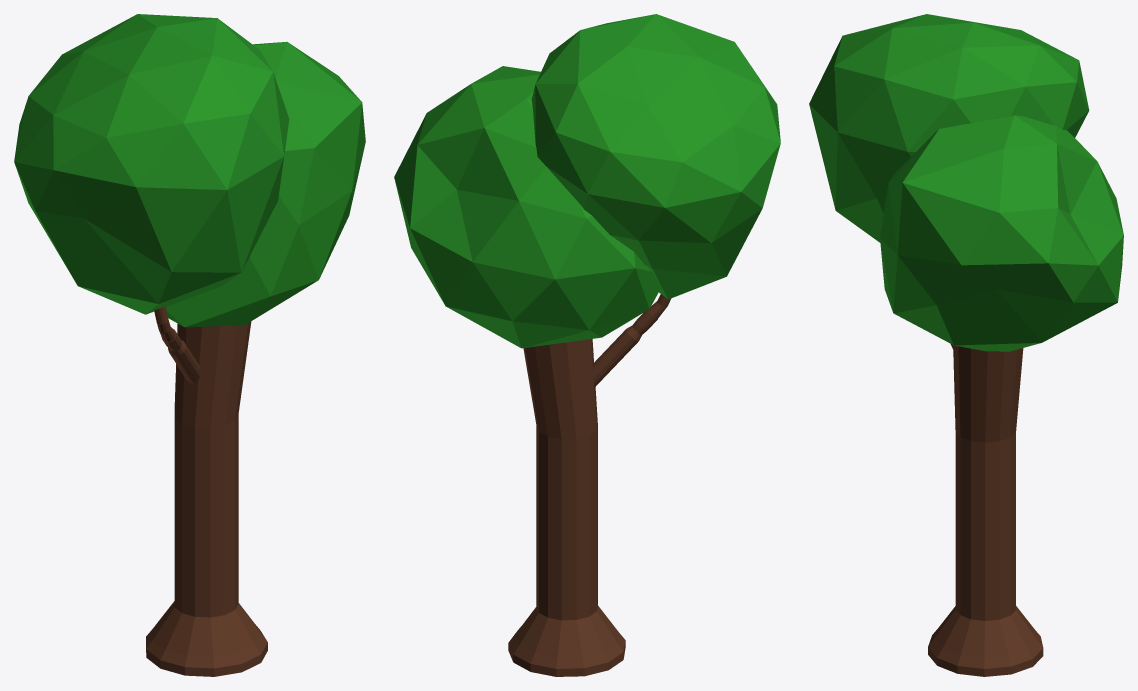
The model's file is blupTree1.fbx.
3 renders of one model, left to right at view 1: azimuth 30°, elevation 25°; view 2: azimuth 150°, elevation 25°; view 3: azimuth 270°, elevation 25°, orthographic. The views are drawn at different scales.
Visible parts, largest first — view 1: Cylinder.002; view 2: Cylinder.002; view 3: Cylinder.002.
Boxes of the visible parts, x1,y1,x2,y2 form: Cylinder.002: (14,14,365,676); Cylinder.002: (394,14,780,676); Cylinder.002: (809,14,1123,676).
Size of the model in its own units: 269 by 492 by 232.
